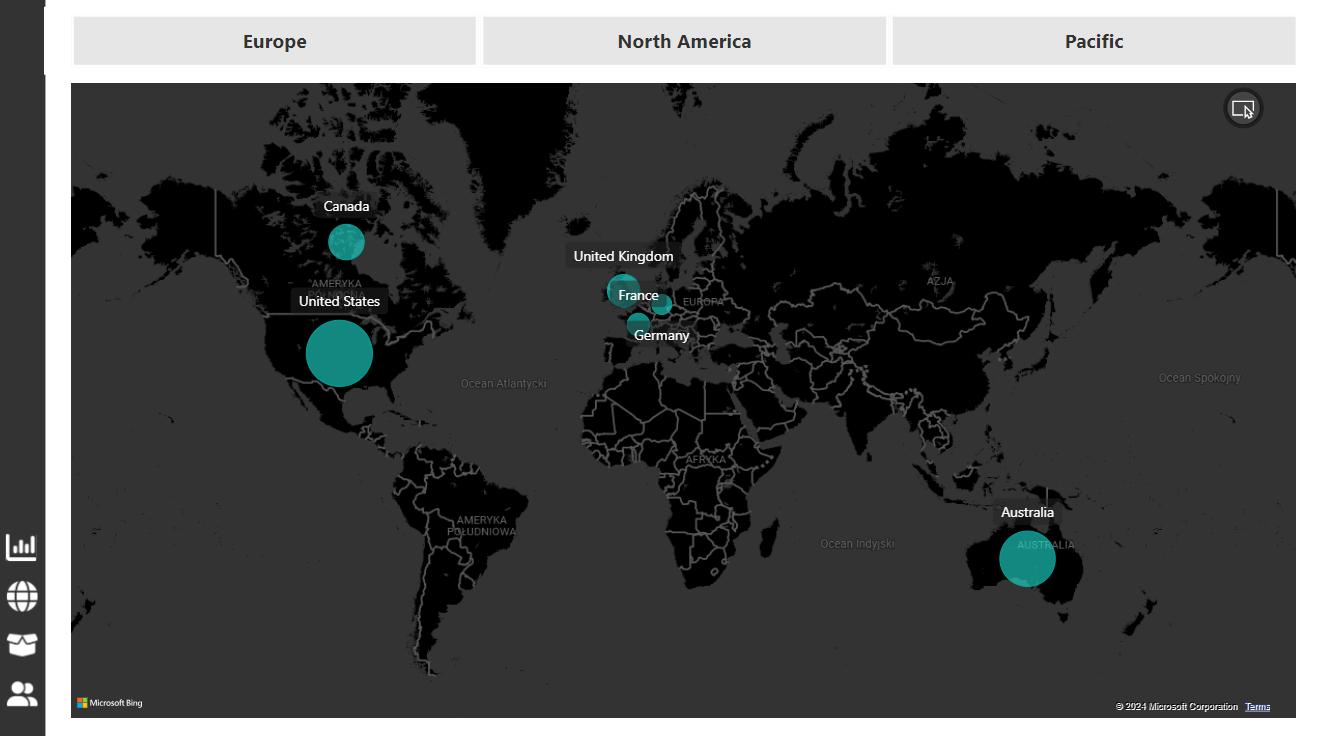

What the dashboard file says about the page in this screenshot:
{"tool":"powerbi","page":{"name":"Map","canvas":[1280,720],"ordinal":1},"visuals":[{"type":"shape","box":[0,0,45,720],"z":0},{"type":"actionButton","box":[2.5,516.7,45.6,37.8],"z":0,"group":"g1"},{"type":"actionButton","box":[3.3,563.4,45.6,37.8],"z":1000,"group":"g1"},{"type":"map","fields":{"Category":["Territory Lookup.Country"],"Size":["Measure Table.Total Orders"]},"box":[65.6,82.5,1191.3,622.8],"z":1000},{"type":"slicer","fields":{"Values":["Territory Lookup.Continent"]},"box":[43,13.6,1234.3,65.6],"z":2000},{"type":"actionButton","box":[3.3,611.1,45.6,37.8],"z":2000,"group":"g1"},{"type":"actionButton","box":[3.3,657.8,45.6,37.8],"z":3000,"group":"g1"},{"type":"group","id":"g1","title":"Navigation Buttons","box":[2.5,516.7,46.4,178.9],"z":3000}]}

Visuals, with their boxes on the page's 1280x720 design canvas (x1, y1, x2, y2). These are canvas units, not pixel positions in the 1324x736 screenshot, which may show the page scaled, cropped or inside an application window:
shape: 0/0/45/720
actionButton: 2/517/48/554
actionButton: 3/563/49/601
map - Territory Lookup.Country x Measure Table.Total Orders: 66/82/1257/705
slicer - Territory Lookup.Continent: 43/14/1277/79
actionButton: 3/611/49/649
actionButton: 3/658/49/696
"Navigation Buttons" group: 2/517/49/696
